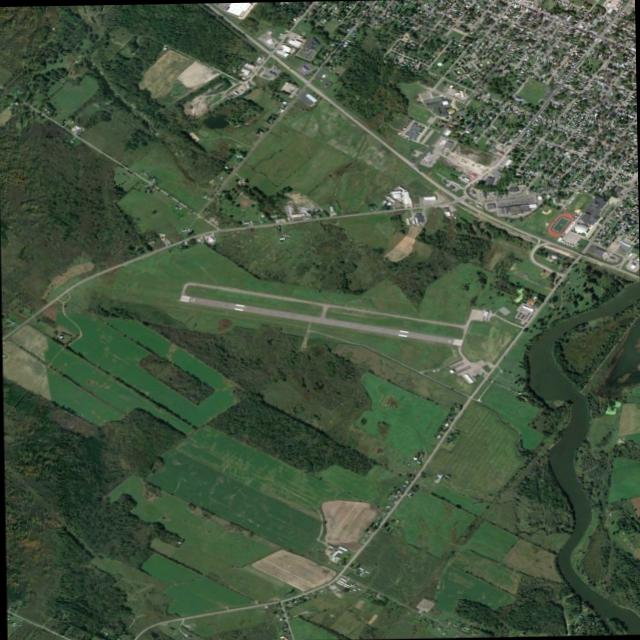storage-tank: (573, 222, 587, 232)
